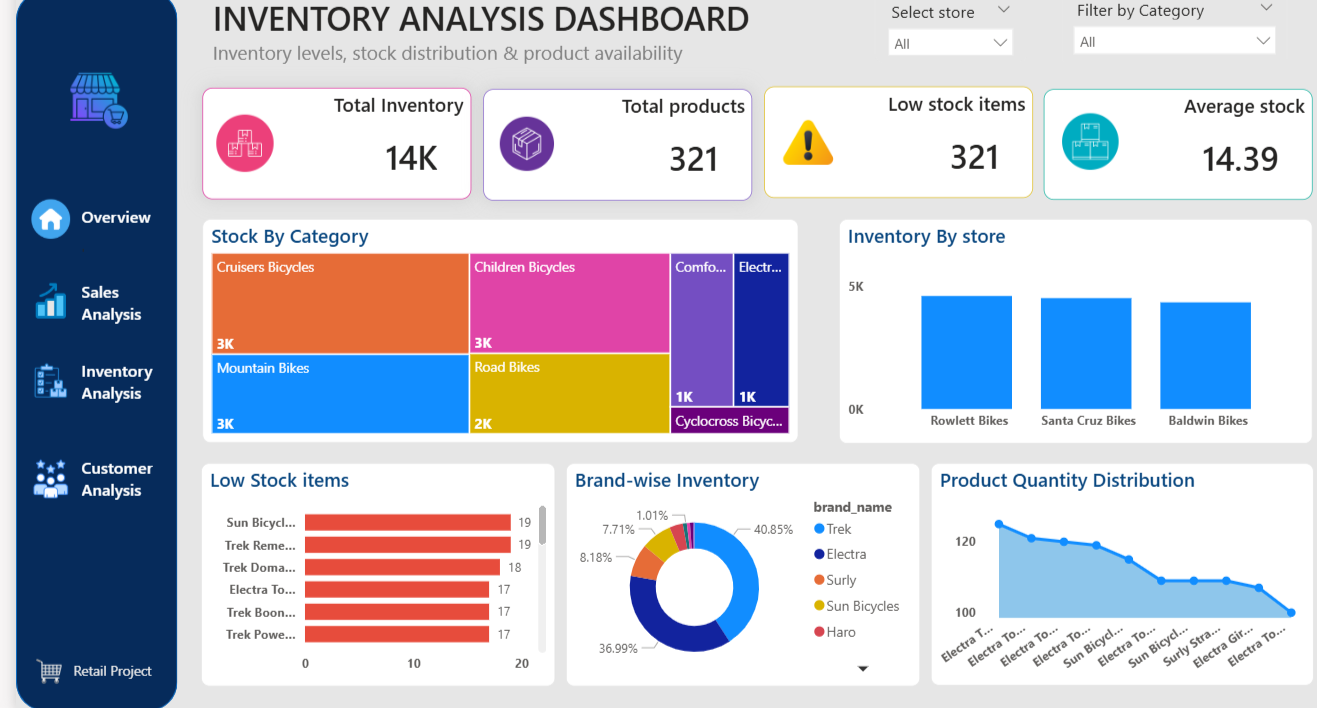

What the dashboard file says about the page in this screenshot:
{"tool":"powerbi","page":{"name":"Inventory Analysis","canvas":[1280,720],"ordinal":2},"visuals":[{"type":"textbox","box":[188.4,11.6,572.8,87.7],"z":0},{"type":"cardVisual","title":"Total Inventory","fields":{"Data":["Sum(stocks_clean.quantity)"]},"box":[183.2,107.1,264,109.7],"z":0,"group":"g1"},{"type":"cardVisual","title":"Total products","fields":{"Data":["CountNonNull(products_clean.product_id)"]},"box":[459,108.4,264.5,109.7],"z":0,"group":"g3"},{"type":"slicer","fields":{"Values":["stores_clean.store_name"]},"box":[844.2,11.8,150,70],"z":1000},{"type":"image","box":[196.1,121.3,58.1,81.3],"z":1000,"group":"g1"},{"type":"image","box":[474.5,122.6,55.5,80],"z":1000,"group":"g3"},{"type":"shape","box":[0,11.6,158.7,708.3],"z":2000},{"type":"image","box":[9,216.7,50.3,38.7],"z":3000},{"type":"image","box":[8.6,297.3,50.3,40],"z":4000},{"type":"image","box":[9,375.4,50.3,38.7],"z":5000},{"type":"image","box":[8.6,472.3,50.3,38.7],"z":6000},{"type":"textbox","box":[59.3,216.7,99.3,314.8],"z":7000},{"type":"image","box":[51.6,89,60,62],"z":8000},{"type":"image","title":"Retail shop","box":[18.1,665.7,29.7,29.7],"z":9000},{"type":"textbox","box":[51.6,665.7,96.8,34.8],"z":10000},{"type":"slicer","title":"Filter by date","fields":{"Values":["categories_clean.category_name"]},"box":[1028.2,11.6,221.9,69.7],"z":11000},{"type":"group","id":"g1","title":"Group 1","box":[183.2,107.1,264.5,109.7],"z":12000},{"type":"cardVisual","title":"Average stock","fields":{"Data":["brands_clean.Average Stock"]},"box":[1010.2,108.4,264,109],"z":12000,"group":"g4"},{"type":"group","id":"g2","title":"Group 2","box":[734.8,105.8,264,109.7],"z":13000,"group":"g5"},{"type":"group","id":"g3","title":"Group 3","box":[459,108.4,264.5,109.7],"z":13000},{"type":"treemap","title":"Stock By Category","fields":{"Values":["Sum(stocks_clean.quantity)"],"Group":["categories_clean.category_name"]},"box":[183.2,236.1,585.7,220],"z":14000},{"type":"cardVisual","title":"Low stock items","fields":{"Data":["brands_clean.Low Stock Items"]},"box":[734.8,105.8,264,109.7],"z":15000,"group":"g2"},{"type":"clusteredColumnChart","title":"Inventory By store","fields":{"Category":["stores_clean.store_name"],"Y":["Sum(stocks_clean.quantity)"]},"box":[808.9,236.1,465.7,220.6],"z":15000},{"type":"image","box":[750.2,121.3,55.5,81.3],"z":16000,"group":"g5"},{"type":"barChart","title":"Low Stock items","fields":{"Category":["products_clean.product_name"],"Y":["Sum(stocks_clean.quantity)"]},"box":[181.9,476,348.3,219.3],"z":16000},{"type":"image","box":[1028.3,120,55.5,80],"z":17000,"group":"g4"},{"type":"donutChart","title":"Brand-wise Inventory","fields":{"Category":["brands_clean.brand_name"],"Y":["Sum(stocks_clean.quantity)"]},"box":[540.5,476,348.3,219.3],"z":17000},{"type":"areaChart","title":"Product Quantity Distribution","fields":{"Category":["products_clean.product_name"],"Y":["Sum(stocks_clean.quantity)"]},"box":[899,476,376,219],"z":18000},{"type":"group","id":"g4","title":"Group 4","box":[1010.2,108.4,264,109],"z":19000},{"type":"group","id":"g5","title":"Group 5","box":[734.8,105.8,264,109.7],"z":20000}]}

Visuals, with their boxes on the page's 1280x720 design canvas (x1, y1, x2, y2). These are canvas units, not pixel positions in the 1317x708 screenshot, which may show the page scaled, cropped or inside an application window:
textbox: bbox=(188, 12, 761, 99)
"Total Inventory" cardVisual: bbox=(183, 107, 447, 217)
"Total products" cardVisual: bbox=(459, 108, 724, 218)
slicer - stores_clean.store_name: bbox=(844, 12, 994, 82)
image: bbox=(196, 121, 254, 203)
image: bbox=(474, 123, 530, 203)
shape: bbox=(0, 12, 159, 720)
image: bbox=(9, 217, 59, 255)
image: bbox=(9, 297, 59, 337)
image: bbox=(9, 375, 59, 414)
image: bbox=(9, 472, 59, 511)
textbox: bbox=(59, 217, 159, 532)
image: bbox=(52, 89, 112, 151)
"Retail shop" image: bbox=(18, 666, 48, 695)
textbox: bbox=(52, 666, 148, 700)
"Filter by date" slicer: bbox=(1028, 12, 1250, 81)
"Group 1" group: bbox=(183, 107, 448, 217)
"Average stock" cardVisual: bbox=(1010, 108, 1274, 217)
"Group 2" group: bbox=(735, 106, 999, 216)
"Group 3" group: bbox=(459, 108, 724, 218)
"Stock By Category" treemap: bbox=(183, 236, 769, 456)
"Low stock items" cardVisual: bbox=(735, 106, 999, 216)
"Inventory By store" clusteredColumnChart: bbox=(809, 236, 1275, 457)
image: bbox=(750, 121, 806, 203)
"Low Stock items" barChart: bbox=(182, 476, 530, 695)
image: bbox=(1028, 120, 1084, 200)
"Brand-wise Inventory" donutChart: bbox=(540, 476, 889, 695)
"Product Quantity Distribution" areaChart: bbox=(899, 476, 1275, 695)
"Group 4" group: bbox=(1010, 108, 1274, 217)
"Group 5" group: bbox=(735, 106, 999, 216)
